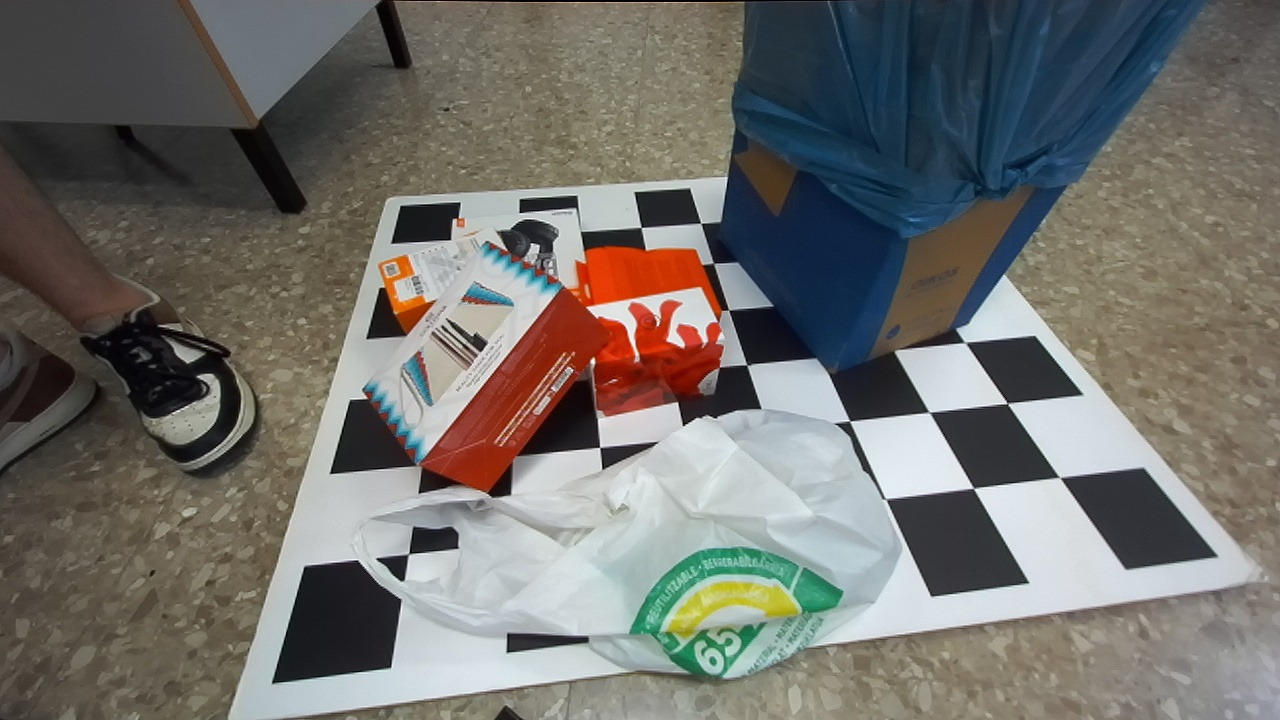caja_busbar: (363, 241, 607, 491)
caja_chasis: (452, 207, 584, 302)
caja_manguera: (574, 246, 721, 312)
caja_pcb: (376, 226, 507, 334)
caja_potencia: (589, 288, 724, 418)
